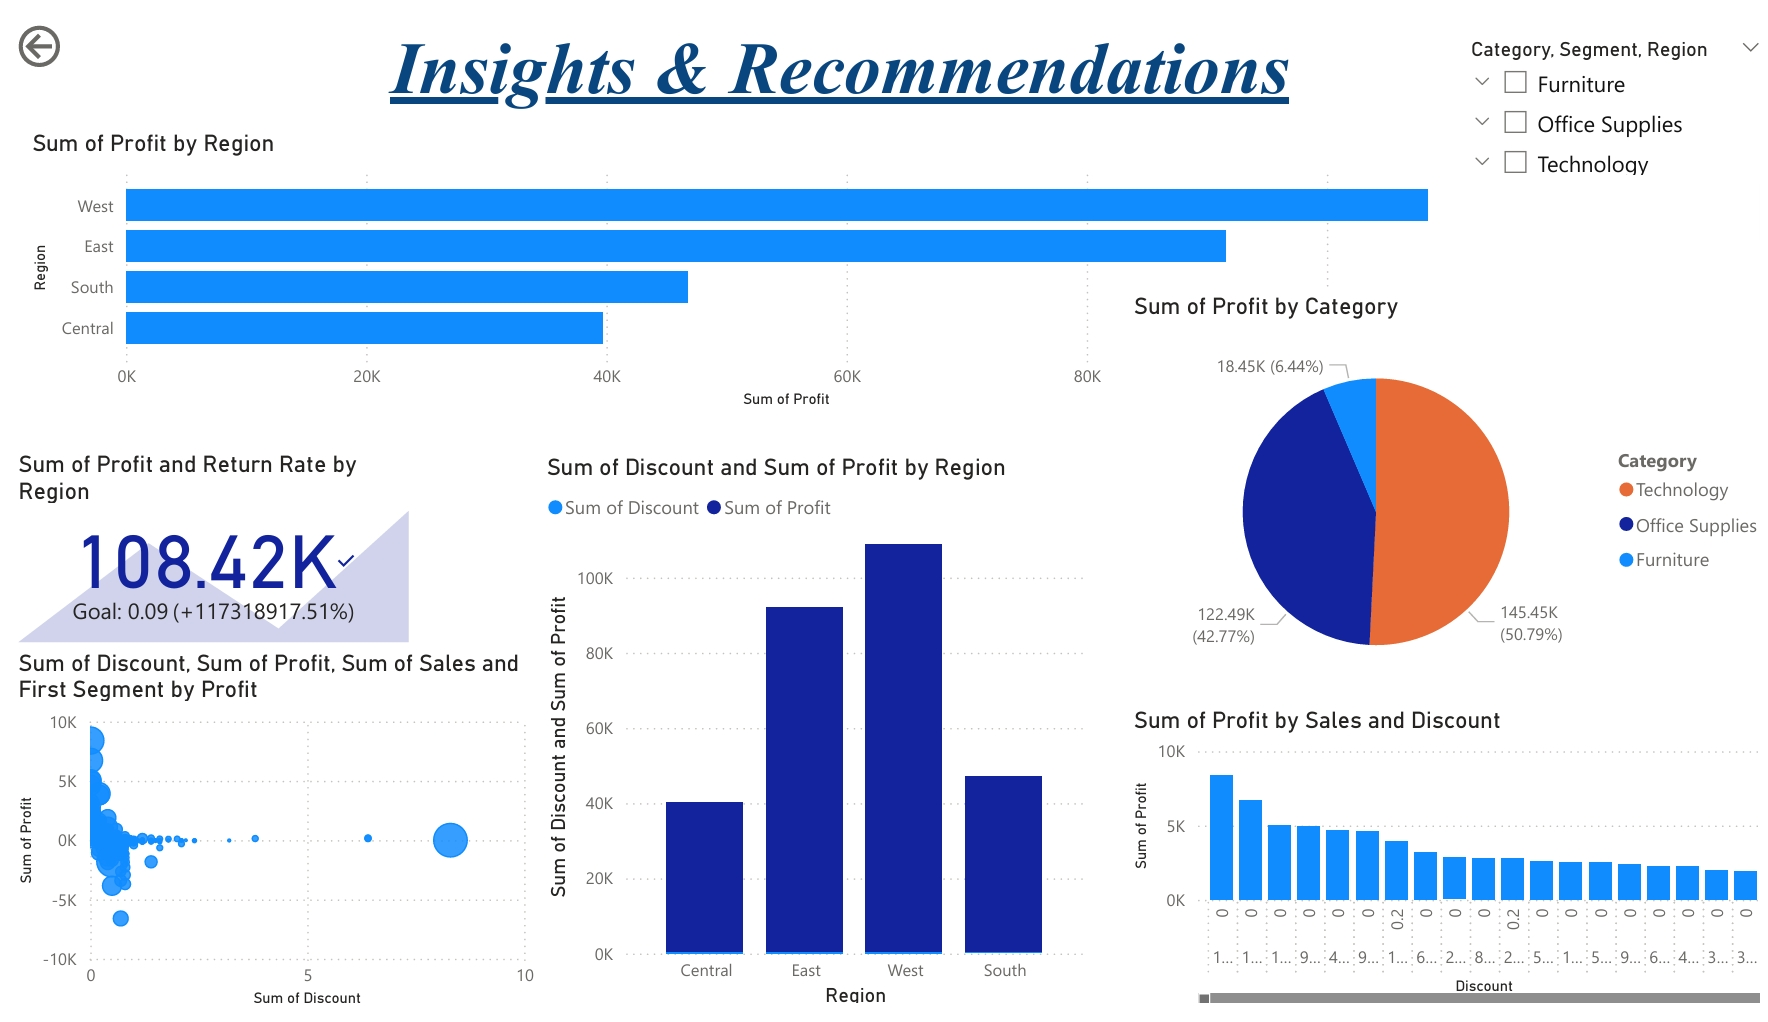

The page's visual inventory and layout, read from the dashboard file:
{"tool":"powerbi","page":{"name":"Insights & Recommendations","canvas":[1280,720],"ordinal":1},"visuals":[{"type":"textbox","box":[10.7,0,1180,80],"z":0},{"type":"barChart","fields":{"Category":["Orders.Region","Orders.Sub-Category"],"Y":["Sum(Orders.Profit)"]},"box":[10,80,1050,206.7],"z":1000},{"type":"slicer","fields":{"Values":["Orders.Category","Orders.Segment","Orders.Region"]},"box":[1045.3,9.3,234.7,109.3],"z":2000},{"type":"kpi","fields":{"Indicator":["Sum(Orders.Profit)"],"TrendLine":["Orders.Region"],"Goal":["Orders.Return Rate"]},"box":[0,312.7,292.7,143.6],"z":3000},{"type":"pieChart","fields":{"Category":["Orders.Category"],"Y":["Sum(Orders.Profit)"]},"box":[809.1,198.2,470.9,300],"z":4000},{"type":"columnChart","fields":{"Y":["Sum(Orders.Discount)","Sum(Orders.Profit)"],"Category":["Orders.Region"]},"box":[383.6,314.5,400,405.5],"z":5000},{"type":"scatterChart","fields":{"X":["Sum(Orders.Discount)"],"Y":["Sum(Orders.Profit)"],"Size":["Sum(Orders.Sales)"],"Category":["Orders.Profit"]},"box":[0,456.4,383.6,263.6],"z":5001},{"type":"actionButton","box":[0,0,100,40],"z":5002},{"type":"lineStackedColumnComboChart","fields":{"Category":["Orders.Sales","Orders.Discount"],"Y":["Sum(Orders.Profit)"]},"box":[809,498,471,222],"z":5003}]}

Visuals, with their boxes in screenshot pixels (x1, y1, x2, y2), scaled from the page's 1280x720 canvas onto the 1768x1022 screenshot:
textbox: Rect(15, 0, 1645, 114)
barChart - Orders.Region x Orders.Sub-Category: Rect(14, 114, 1464, 407)
slicer - Orders.Category x Orders.Segment: Rect(1444, 13, 1767, 168)
kpi - Sum(Orders.Profit) x Orders.Region: Rect(0, 444, 404, 648)
pieChart - Orders.Category x Sum(Orders.Profit): Rect(1118, 281, 1767, 707)
columnChart - Sum(Orders.Discount) x Sum(Orders.Profit): Rect(530, 446, 1082, 1021)
scatterChart - Sum(Orders.Discount) x Sum(Orders.Profit): Rect(0, 648, 530, 1021)
actionButton: Rect(0, 0, 138, 57)
lineStackedColumnComboChart - Orders.Sales x Orders.Discount: Rect(1117, 707, 1767, 1021)
